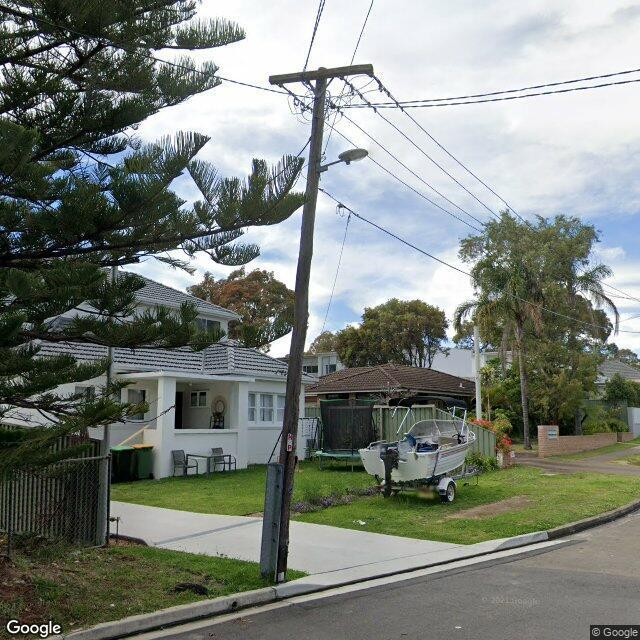crossarm: (268, 63, 374, 86)
streetlight: (316, 148, 368, 172)
timber-pole: (258, 66, 328, 583)
